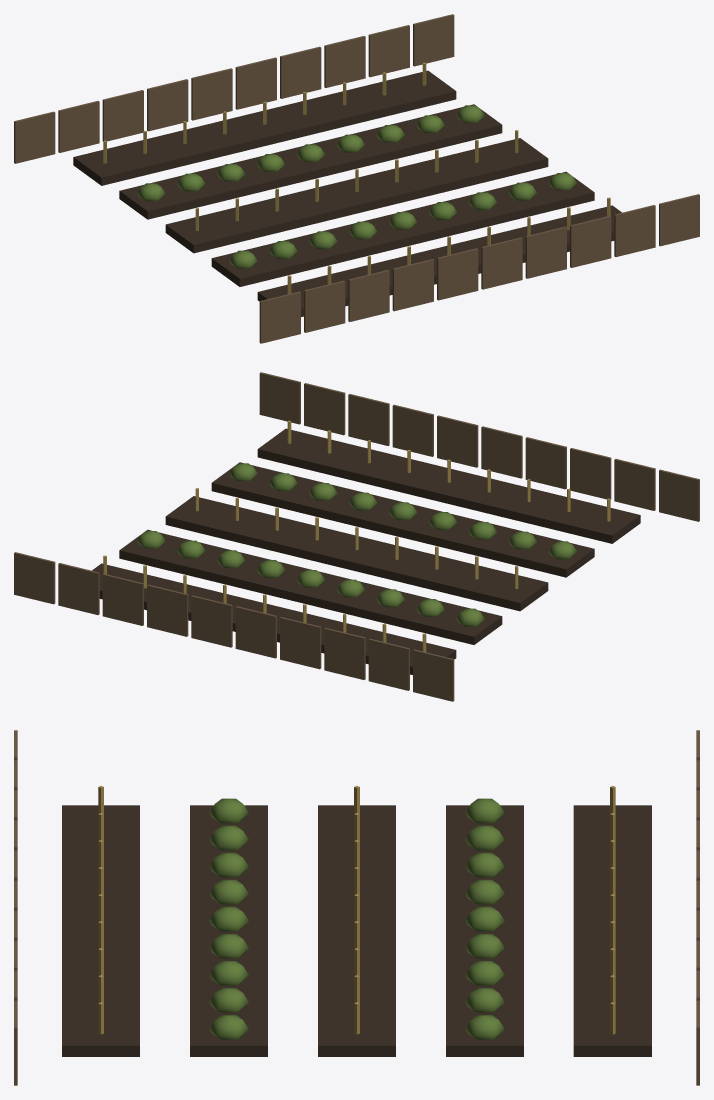
The model's file is garden.glb.
3 renders of one model, top to bottom at view 1: azimuth 30°, elevation 25°; view 2: azimuth 150°, elevation 25°; view 3: azimuth 270°, elevation 25°, orthographic. The views are drawn at different scales.
Parts seen in each view (by area): view 1: garden; view 2: garden; view 3: garden.
Boxes of the visible parts, x1,y1,x2,y2 form: garden: (14, 14, 699, 343); garden: (14, 372, 699, 701); garden: (14, 730, 699, 1085).
Size of the model in its own units: 9.9 by 0.8998 by 9.65.
